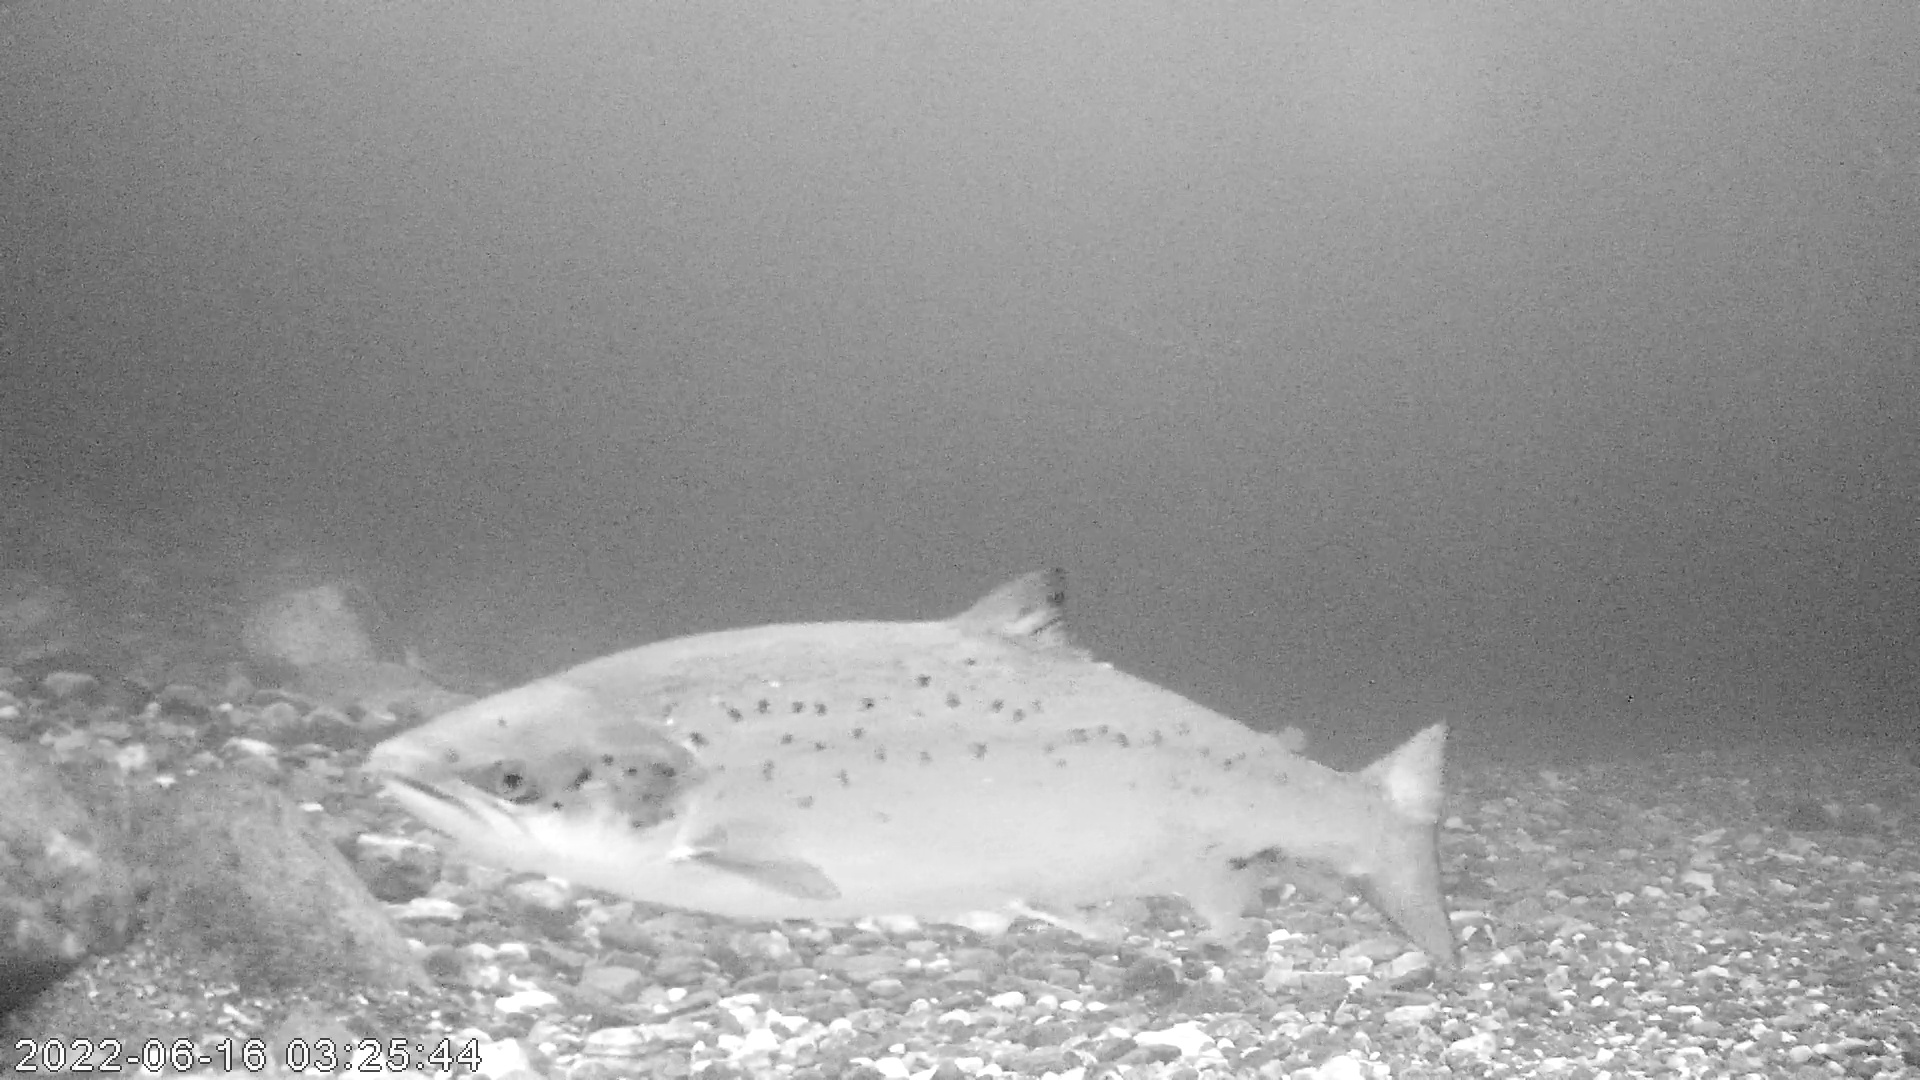salmon: (369, 562, 1462, 971)
